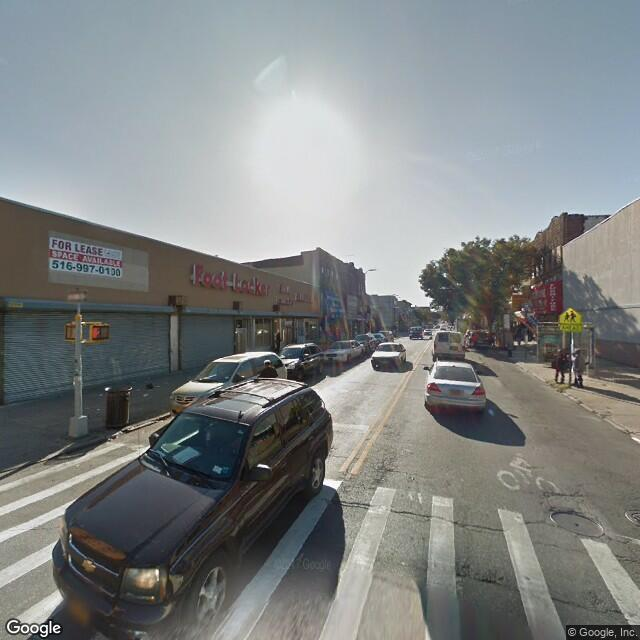litter: (145, 381, 155, 390), (140, 392, 151, 398), (96, 392, 103, 396), (94, 406, 102, 409)
